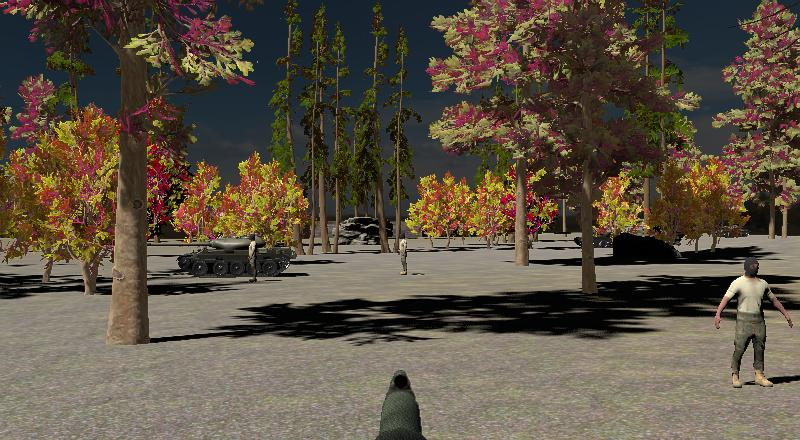Human: (398, 230, 409, 276)
Tank: (151, 233, 294, 279)
